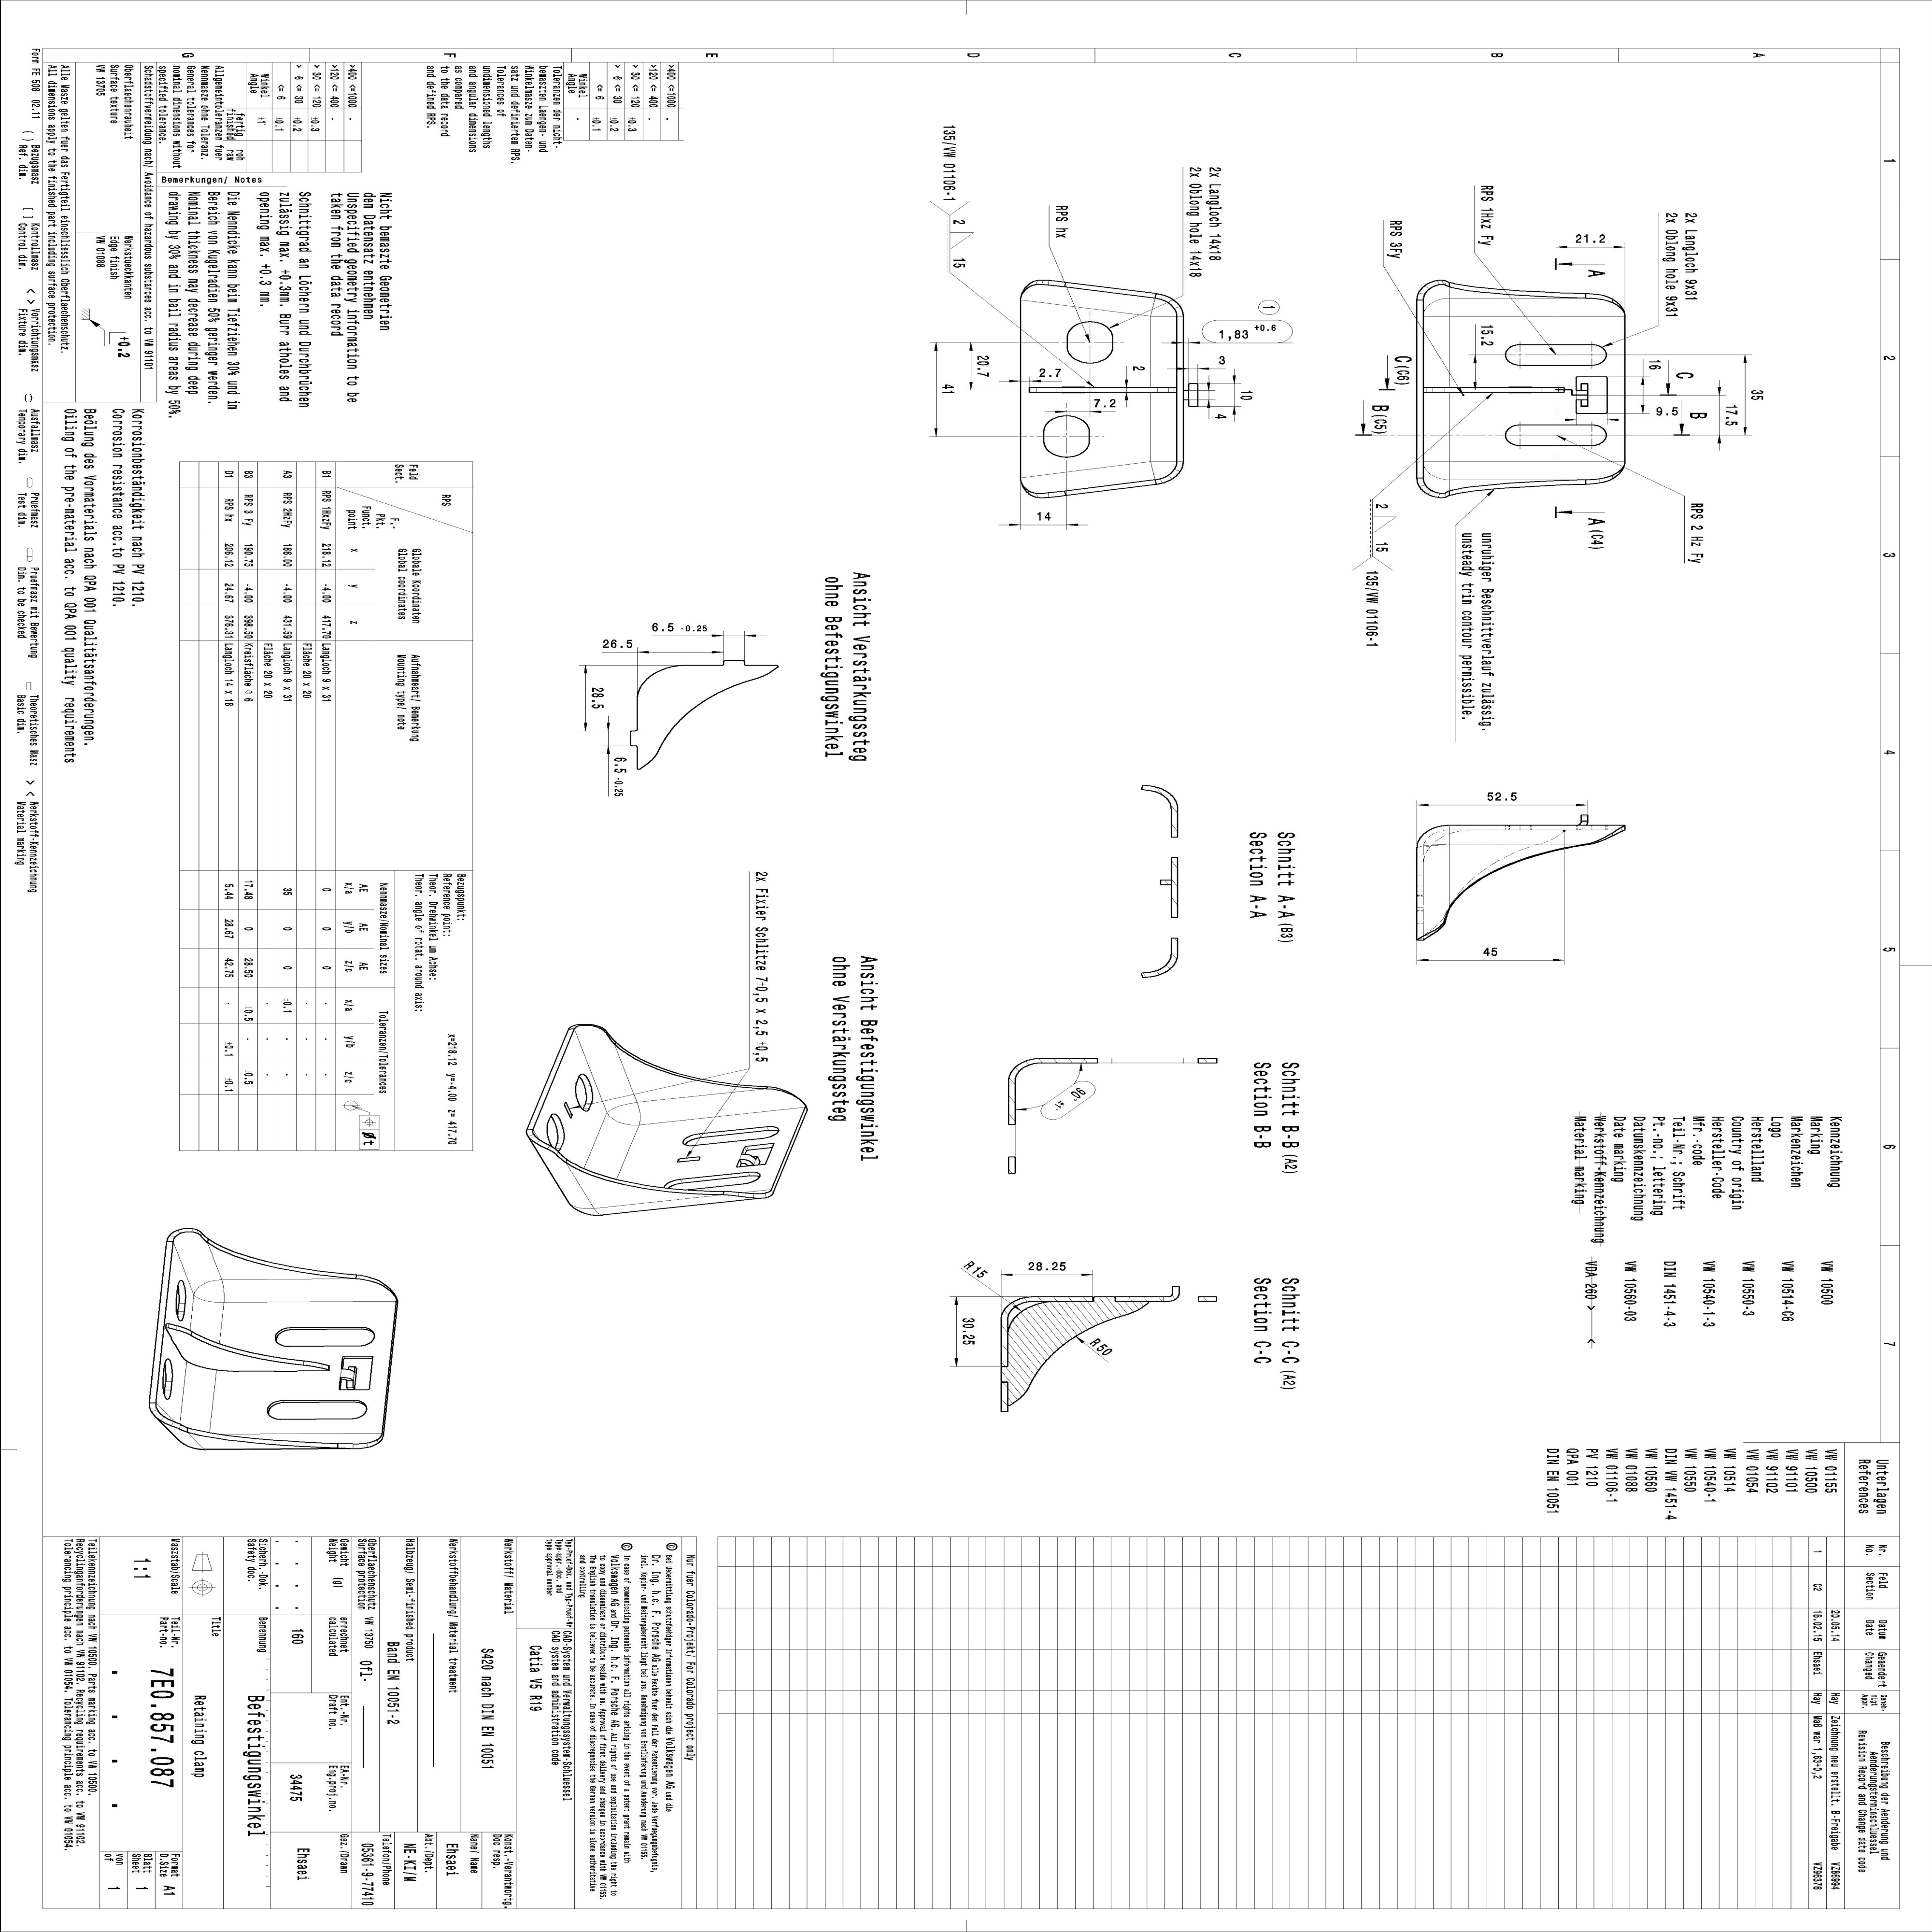BendingEdge: (633, 1085, 809, 1127), (571, 1014, 640, 1116), (219, 1274, 398, 1304), (168, 1221, 226, 1297), (584, 1109, 642, 1184), (1447, 295, 1628, 318), (1447, 460, 1628, 483), (177, 1359, 219, 1433), (1421, 313, 1453, 387), (1422, 391, 1453, 464), (188, 1295, 226, 1345)
BoxCorner: (1148, 458, 1187, 487), (603, 1100, 644, 1127), (1150, 292, 1185, 318), (191, 1279, 225, 1304), (1421, 295, 1453, 320), (1422, 458, 1451, 481)
InnerContour: (1504, 340, 1608, 368), (1504, 421, 1608, 448), (681, 1123, 780, 1150), (272, 1323, 377, 1348), (1065, 317, 1116, 366), (662, 1169, 763, 1194), (267, 1398, 368, 1421), (1042, 414, 1093, 458), (570, 1072, 603, 1115), (545, 1111, 566, 1152), (163, 1357, 175, 1401), (175, 1279, 188, 1322), (561, 1100, 577, 1120), (676, 1155, 702, 1162)
